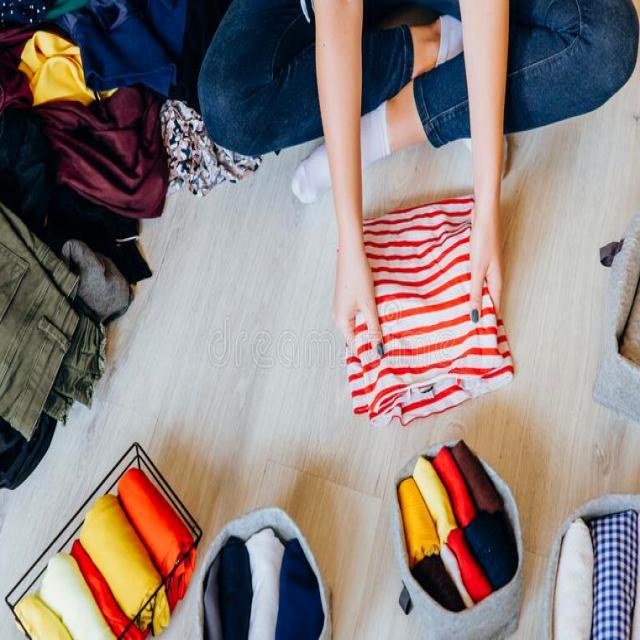clothes: (360, 232, 498, 394), (1, 0, 203, 103), (44, 78, 174, 216)
